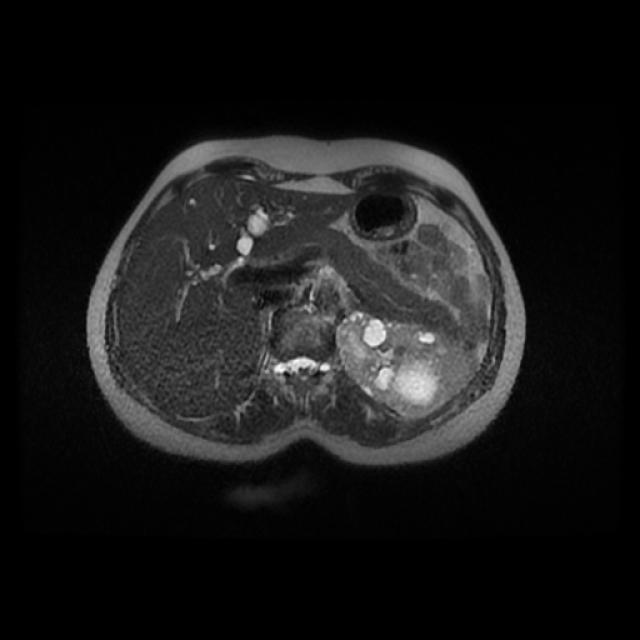sol: (340, 314, 452, 415)
